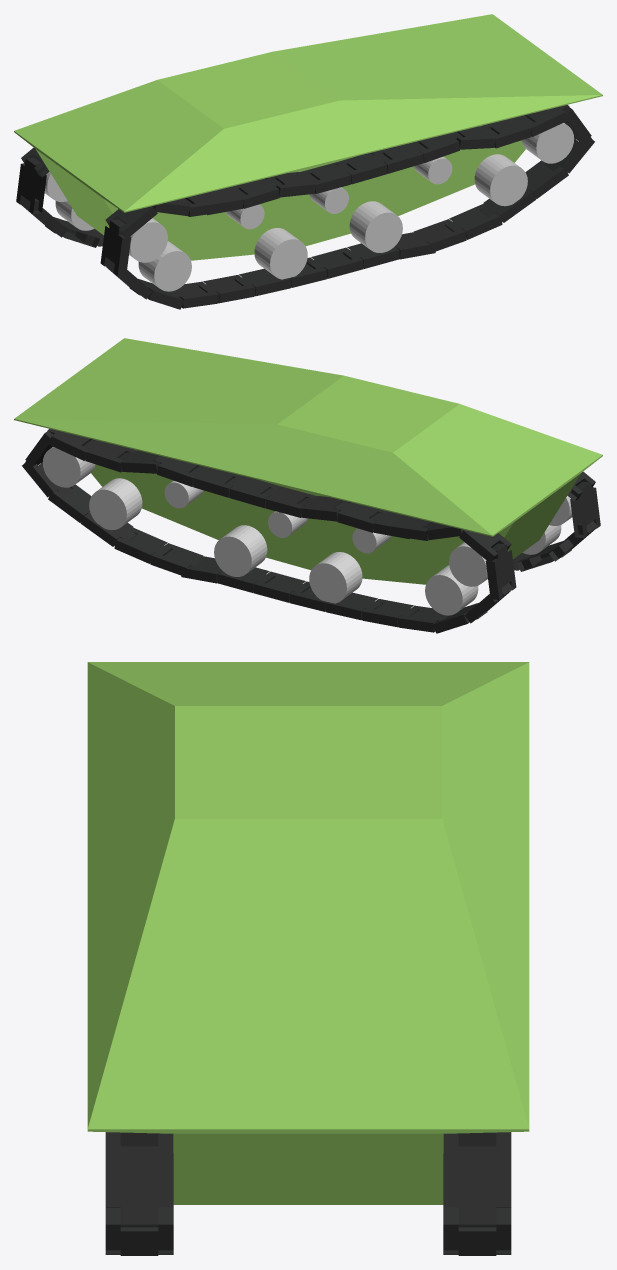
File: TankBot.fbx
The picture shows the model from 3 angles, top to bottom: view 1: azimuth 30°, elevation 25°; view 2: azimuth 150°, elevation 25°; view 3: azimuth 270°, elevation 25°; orthographic projection. The views are drawn at different scales.
Parts seen in each view (by area): view 1: Bot; view 2: Bot; view 3: Bot.
Part boxes in pixels (left/top/right/bottom): Bot: left=14, top=14, right=602, bottom=309; Bot: left=14, top=338, right=602, bottom=633; Bot: left=87, top=662, right=529, bottom=1255.
Bounding box in the file's own units: 833 × 263 × 330.
